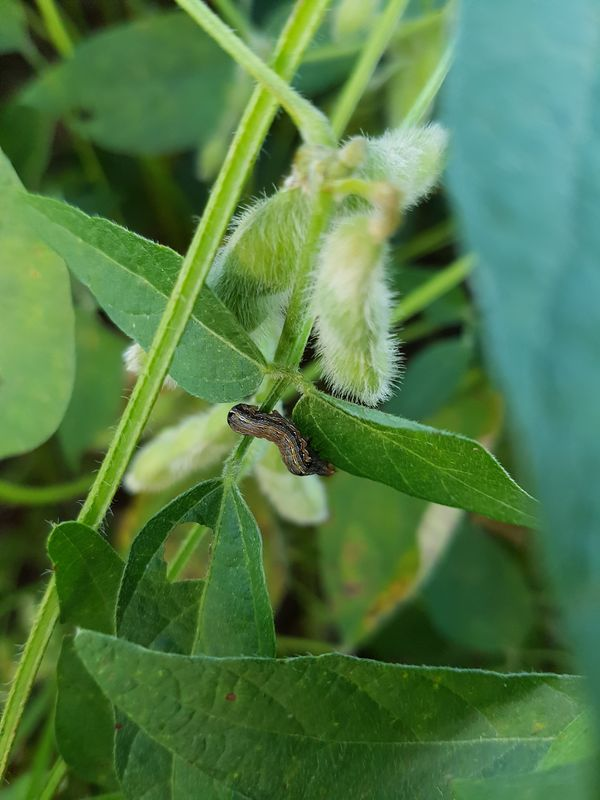Spodoptera_albula: (215, 393, 346, 491)
